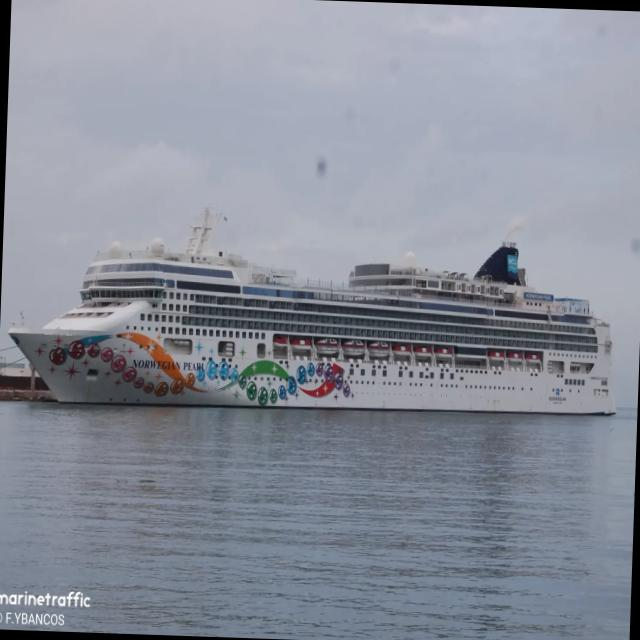Cruise: (9, 207, 615, 414)
